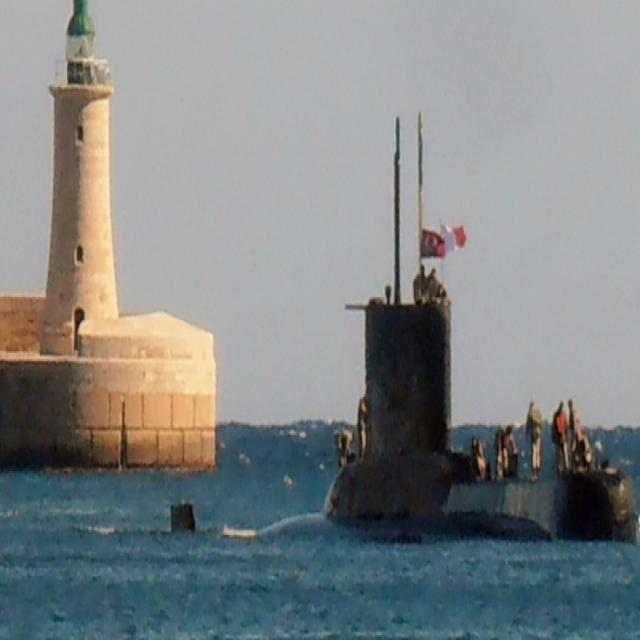submarine: (289, 103, 640, 543)
